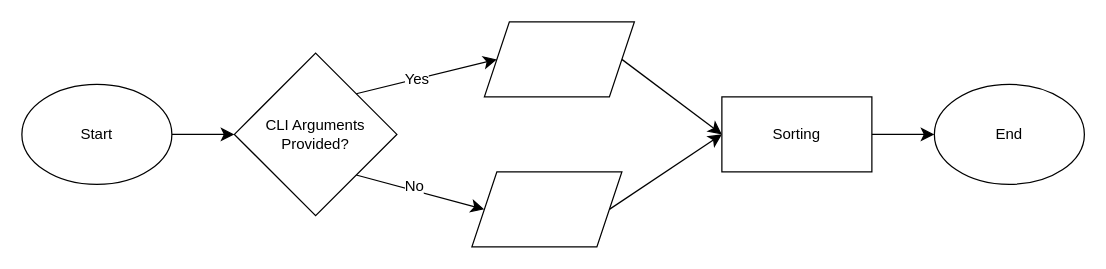
Image size: 1106x269. Some labels were removed from this diagram. The centre of each missing label's shape, as x and y in pixels:
"Get Path from CLI" goes at (558,59).
"Launch GUI to get Path" goes at (546,209).
